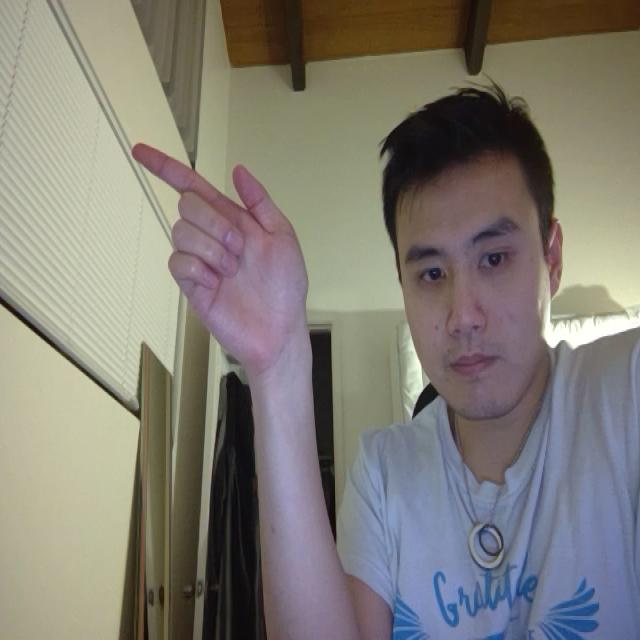G: (122, 116, 366, 429)
